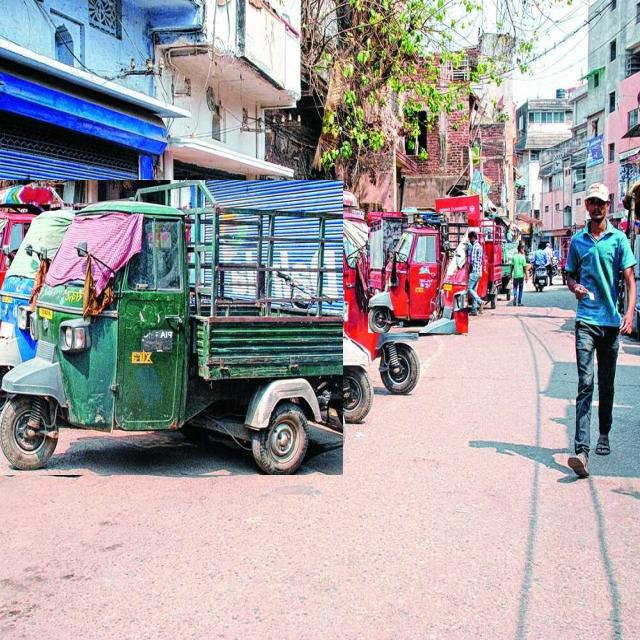autorickshaw: (0, 180, 343, 475), (282, 187, 419, 393), (369, 213, 468, 333)
